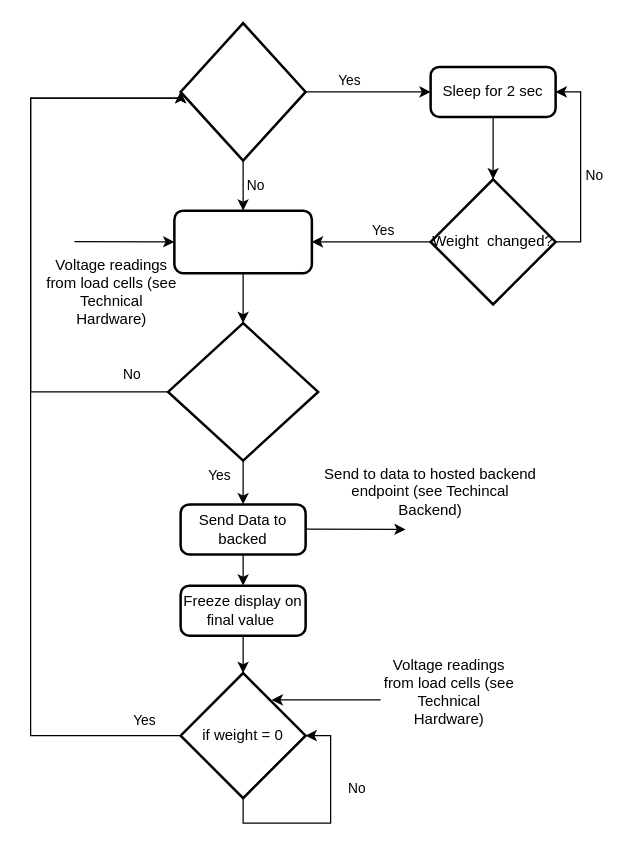
The diagram is 624 pixels wide and 855 high, and some of its shapes have lost their labels. Each missing label, with the centre of its shape:
"is (high reading - lowreading < 0.3)" goes at (x=242, y=391).
"Take ADC readings and average them" goes at (x=242, y=241).
"weight stable for 7 sec?" goes at (x=242, y=91).
